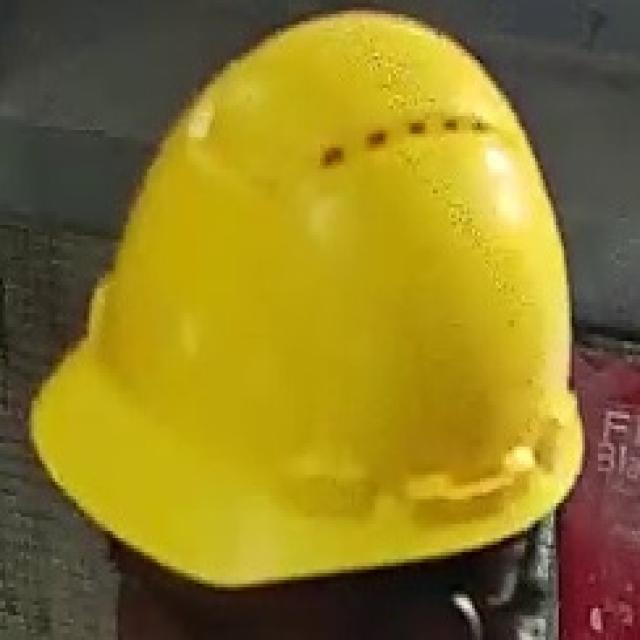yellow helmet: (28, 11, 640, 606)
